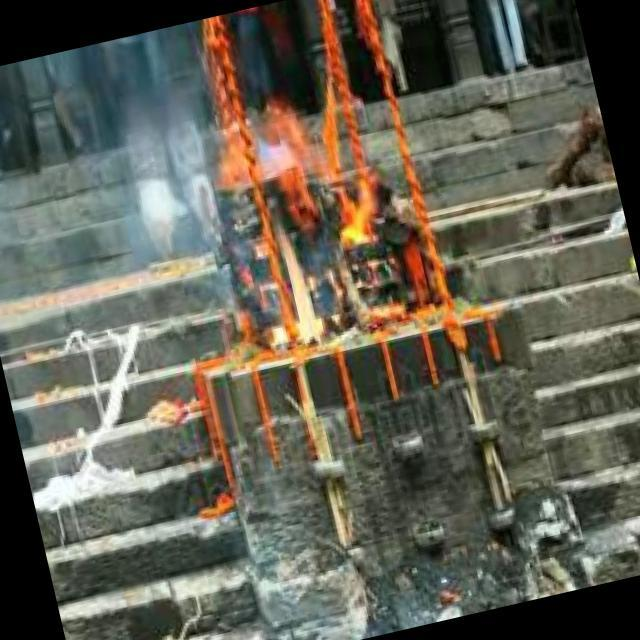Fire: (241, 88, 408, 349)
